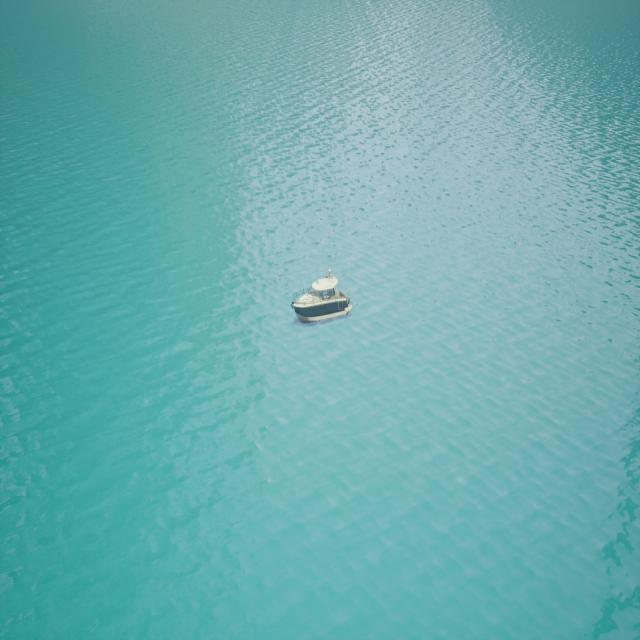ship: (290, 270, 350, 323)
